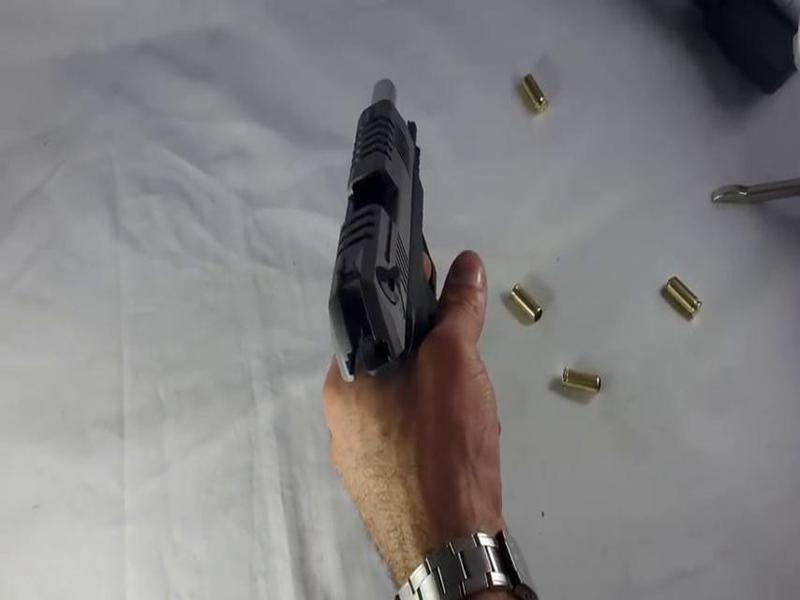Pistola: (296, 69, 510, 487)
